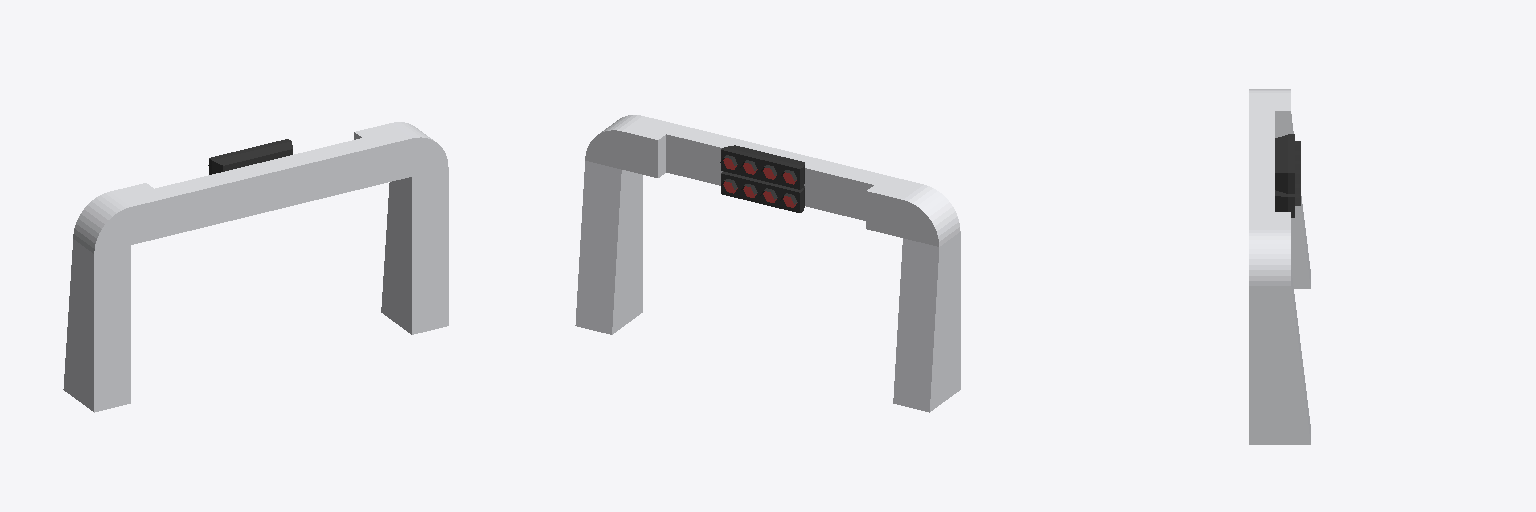
Rendered from overheadLights.obj.
3 renders of one model, left to right at view 1: azimuth 30°, elevation 25°; view 2: azimuth 150°, elevation 25°; view 3: azimuth 270°, elevation 25°, orthographic.
Visible parts, largest first — view 1: overheadLights; view 2: overheadLights; view 3: overheadLights.
Boxes of the visible parts, x1=… form: overheadLights: x1=63, y1=122, x2=448, y2=412; overheadLights: x1=575, y1=115, x2=960, y2=412; overheadLights: x1=1249, y1=89, x2=1310, y2=444.
Bounding box in the file's own units: 1.26 × 0.6939 × 0.19.